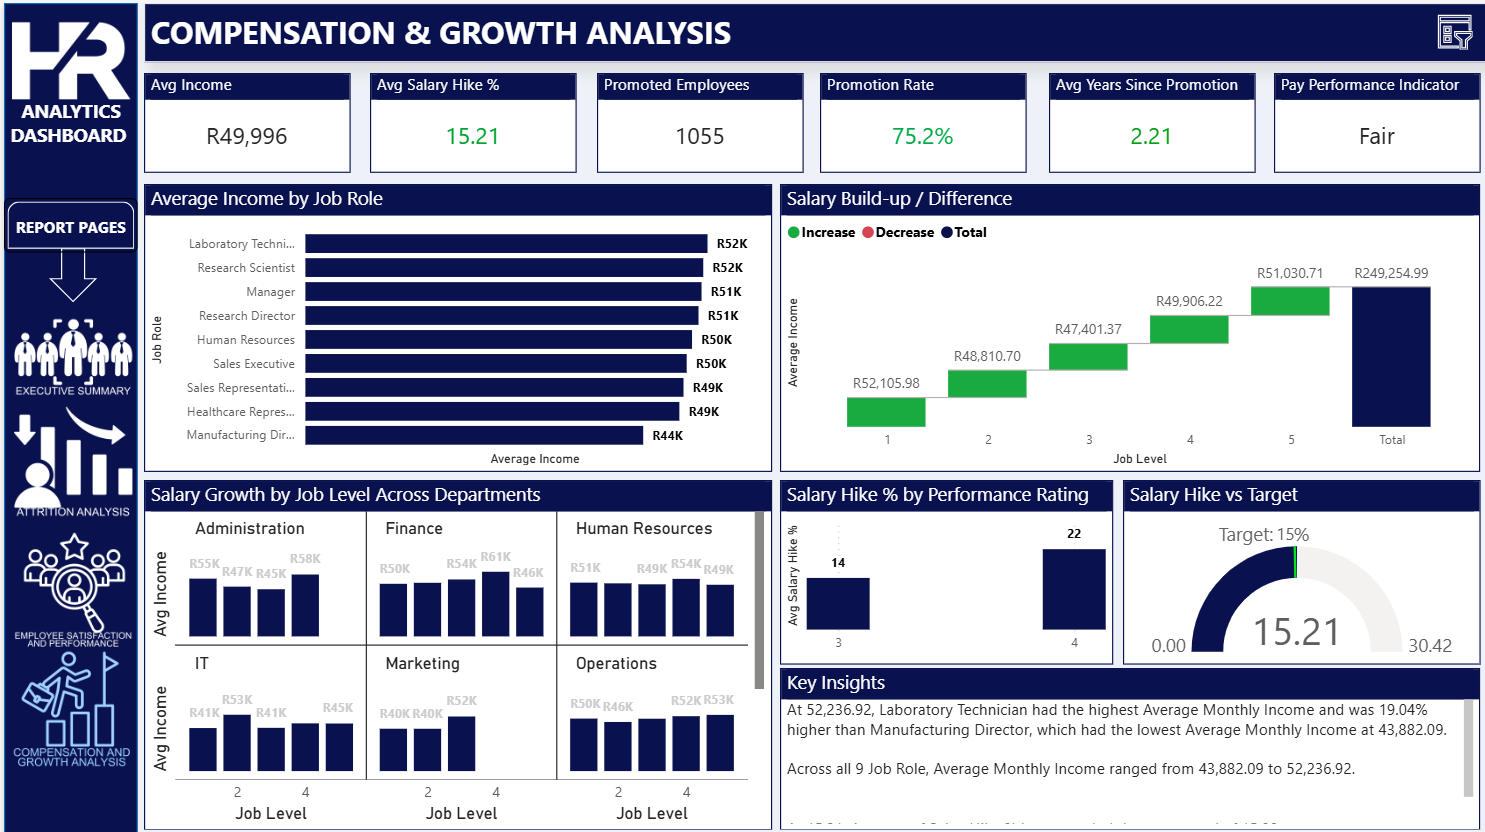

Layout of this report page (visuals, bound fields, positions):
{"tool":"powerbi","page":{"name":"Compensation & Growth Analysis","canvas":[1280,720],"ordinal":3},"visuals":[{"type":"group","id":"g1","title":"Page Navigation","box":[0,0,1280,720.5],"z":0},{"type":"shape","box":[0,0,115.2,720.5],"z":0,"group":"g1"},{"type":"textbox","box":[120.4,0,1159.6,50.9],"z":1000,"group":"g1"},{"type":"textbox","box":[0,76.8,115.2,58.1],"z":2000,"group":"g1"},{"type":"image","box":[7.3,553.3,102.8,111.1],"z":2125,"group":"g1"},{"type":"shape","box":[38.4,210.7,41.5,46.7],"z":2250,"group":"g1"},{"type":"image","box":[8.3,342.6,101.7,111.1],"z":2312,"group":"g1"},{"type":"image","box":[7.3,0,101.7,111.1],"z":2375,"group":"g1"},{"type":"image","box":[8.3,451.6,101.7,111.1],"z":2406,"group":"g1"},{"type":"image","box":[8.3,249.1,101.7,111.1],"z":2437,"group":"g1"},{"type":"shape","box":[0,168.2,115.2,46.7],"z":2500,"group":"g1"},{"type":"actionButton","title":"Slicers button","box":[1230,5.5,41.8,39.1],"z":3000},{"type":"clusteredBarChart","title":"Average Income by Job Role","fields":{"Category":["HR_Analytics.JobRole"],"Y":["Avg(HR_Analytics.MonthlyIncome)"]},"box":[120.4,155.7,540.9,248.1],"z":4000},{"type":"clusteredColumnChart","title":"Salary Hike % by Performance Rating","fields":{"Category":["HR_Analytics.PerformanceRating"],"Y":["Avg(HR_Analytics.SalaryHike %)"]},"box":[668.5,411.1,286.5,158.8],"z":5000},{"type":"clusteredColumnChart","title":"Salary Growth by Job Level Across Departments","fields":{"Y":["Avg(HR_Analytics.MonthlyIncome)"],"Category":["HR_Analytics.JobLevel"],"Rows":["HR_Analytics.Department"]},"box":[120.4,411.1,540.9,302.1],"z":6000},{"type":"waterfallChart","title":"Salary Build-up / Difference","fields":{"Category":["HR_Analytics.JobLevel"],"Y":["Avg(HR_Analytics.MonthlyIncome)"]},"box":[668.5,155.7,603.1,248.1],"z":7000},{"type":"gauge","title":"Salary Hike vs Target","fields":{"Y":["Avg(HR_Analytics.SalaryHike %)"]},"box":[963.4,411.1,308.3,158.8],"z":8000},{"type":"textbox","title":"Key Insights","box":[668.5,573,603.1,140.1],"z":9000},{"type":"cardVisual","title":"Avg Income","fields":{"Data":["Measure.Avg Monthly Income"]},"box":[120.4,60.2,177.5,86.2],"z":10000},{"type":"cardVisual","title":"Avg Salary Hike %","fields":{"Data":["Measure.Avg Salary Hike"]},"box":[315.6,60.2,177.5,86.2],"z":11000},{"type":"cardVisual","title":"Pay Performance Indicator","fields":{"Data":["Measure.Pay Performance Indicator"]},"box":[1094.2,60.2,177.5,86.2],"z":12000},{"type":"cardVisual","title":"Promotion Rate","fields":{"Data":["Measure.Promotion Rate"]},"box":[702.8,60.2,177.5,86.2],"z":13000},{"type":"cardVisual","title":"Promoted Employees","fields":{"Data":["Measure.Promoted Employees"]},"box":[510.8,60.2,177.5,86.2],"z":14000},{"type":"cardVisual","title":"Avg Years Since Promotion","fields":{"Data":["Measure.Avg Years Since Promotion"]},"box":[900,60.2,177.5,86.2],"z":15000},{"type":"textbox","box":[1041.2,441.2,100.7,37.4],"z":16000}]}

Visuals, with their boxes in screenshot pixels (x1, y1, x2, y2), scaled from the page's 1280x720 canvas onto the 1485x832 screenshot:
"Page Navigation" group: [0, 0, 1484, 831]
shape: [0, 0, 134, 831]
textbox: [140, 0, 1484, 59]
textbox: [0, 89, 134, 156]
image: [8, 639, 128, 768]
shape: [45, 243, 93, 297]
image: [10, 396, 128, 524]
image: [8, 0, 126, 128]
image: [10, 522, 128, 650]
image: [10, 288, 128, 416]
shape: [0, 194, 134, 248]
"Slicers button" actionButton: [1427, 6, 1475, 52]
"Average Income by Job Role" clusteredBarChart: [140, 180, 767, 467]
"Salary Hike % by Performance Rating" clusteredColumnChart: [776, 475, 1108, 659]
"Salary Growth by Job Level Across Departments" clusteredColumnChart: [140, 475, 767, 824]
"Salary Build-up / Difference" waterfallChart: [776, 180, 1475, 467]
"Salary Hike vs Target" gauge: [1118, 475, 1475, 659]
"Key Insights" textbox: [776, 662, 1475, 824]
"Avg Income" cardVisual: [140, 70, 346, 169]
"Avg Salary Hike %" cardVisual: [366, 70, 572, 169]
"Pay Performance Indicator" cardVisual: [1269, 70, 1475, 169]
"Promotion Rate" cardVisual: [815, 70, 1021, 169]
"Promoted Employees" cardVisual: [593, 70, 799, 169]
"Avg Years Since Promotion" cardVisual: [1044, 70, 1250, 169]
textbox: [1208, 510, 1325, 553]
